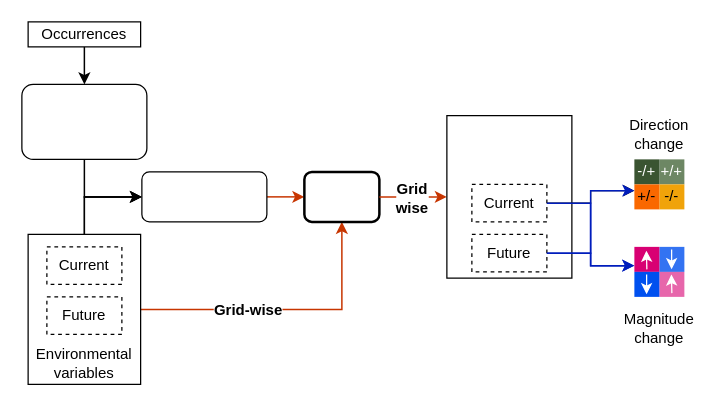
Image size: 719x406. Some labels were removed from this diagram. The shapes that lost their labels are listed below. From the top down, each one's box as (x1, y1, x2, y2) in pixels, then its label:
(21, 83, 147, 159): Quality filtering Spatial thinning Resampling
(141, 171, 267, 222): Random Forest SDM
(302, 170, 380, 222): SHAP
(446, 114, 572, 278): Shapley values of environmental variables
